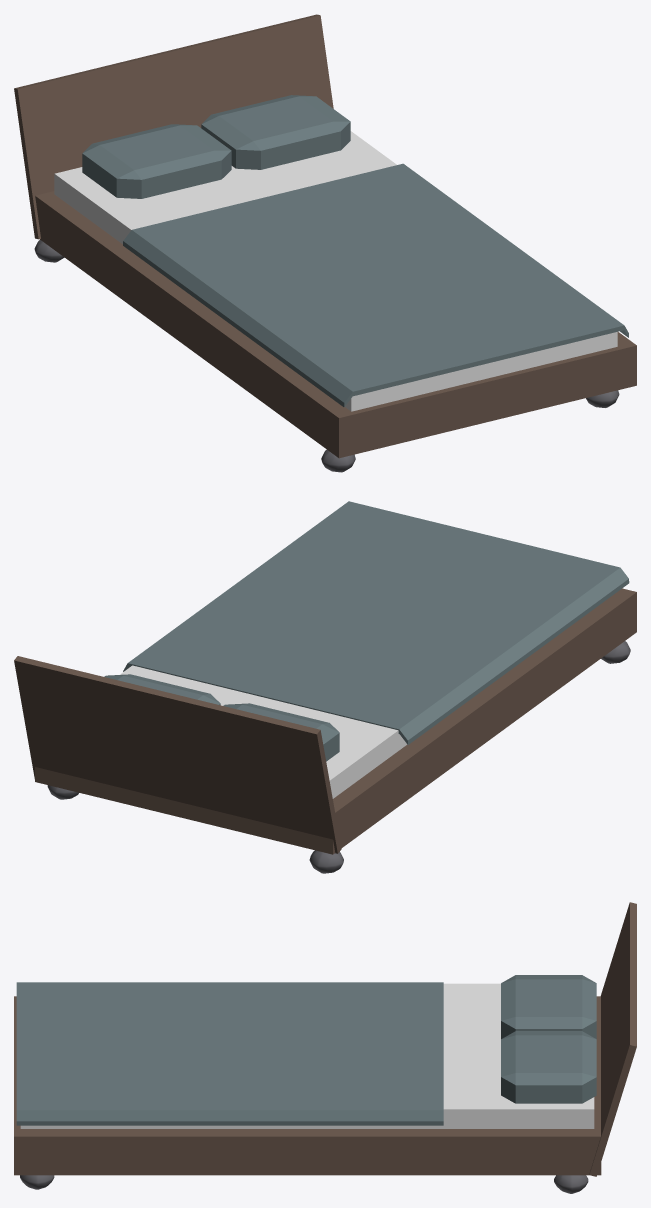
File: Krovat.fbx
3 renders of one model, top to bottom at view 1: azimuth 30°, elevation 25°; view 2: azimuth 150°, elevation 25°; view 3: azimuth 270°, elevation 25°, orthographic. The views are drawn at different scales.
Parts seen in each view (by area): view 1: Plane; view 2: Plane; view 3: Plane.
Part boxes in pixels (x1=…): Plane: x1=14, y1=14, x2=636, y2=472; Plane: x1=14, y1=501, x2=636, y2=873; Plane: x1=14, y1=902, x2=636, y2=1193.
Size of the model in its own units: 307 by 155 by 563.
